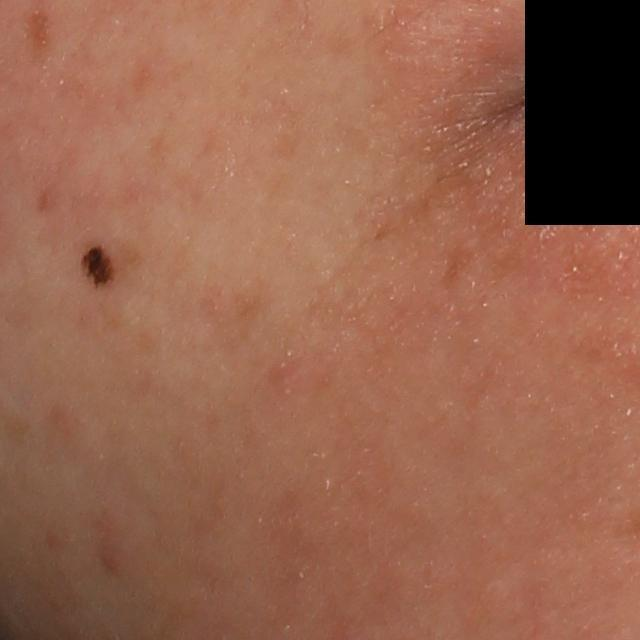nevus: (71, 243, 120, 294)
papule: (98, 544, 127, 577)
